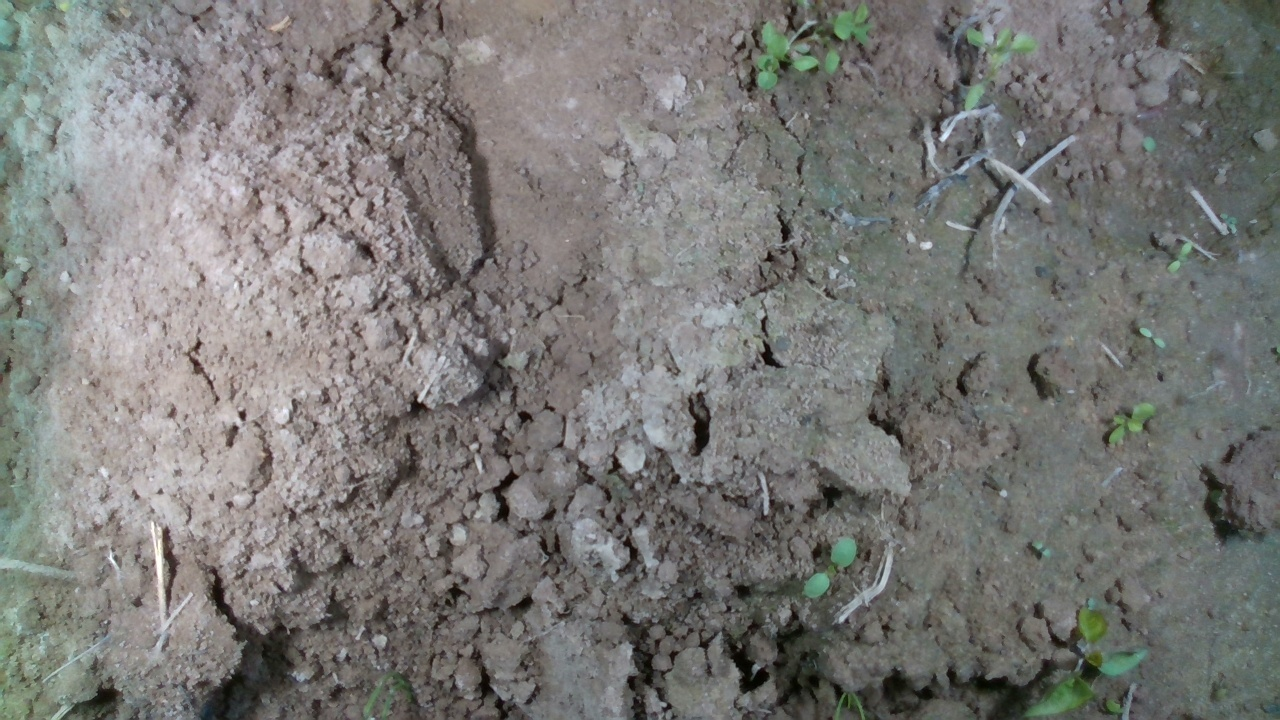weed: (802, 535, 857, 601), (1105, 401, 1159, 446), (1166, 238, 1193, 274), (1138, 325, 1167, 350), (1217, 211, 1241, 229)
